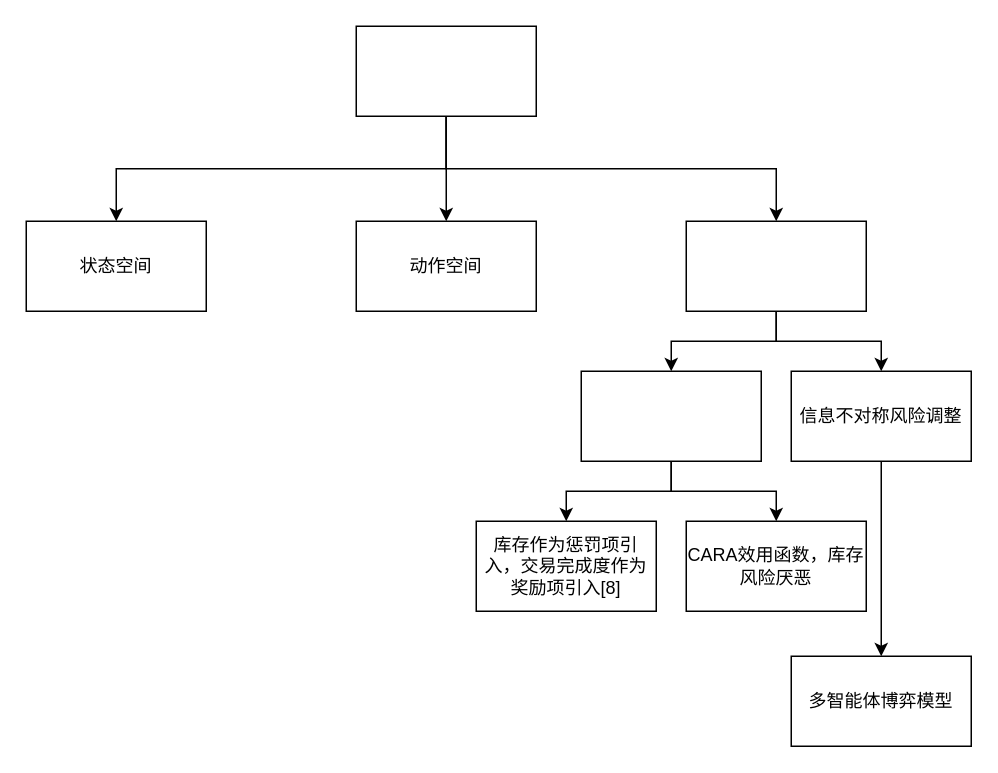
This 998x773 diagram has some shape labels left out. Here are the shapes that lost their labels. From the top down, the box of each, then its label:
(355, 25, 536, 116): 强化学习要素
(685, 220, 866, 311): 奖励函数
(580, 370, 761, 461): 库存风险调整
